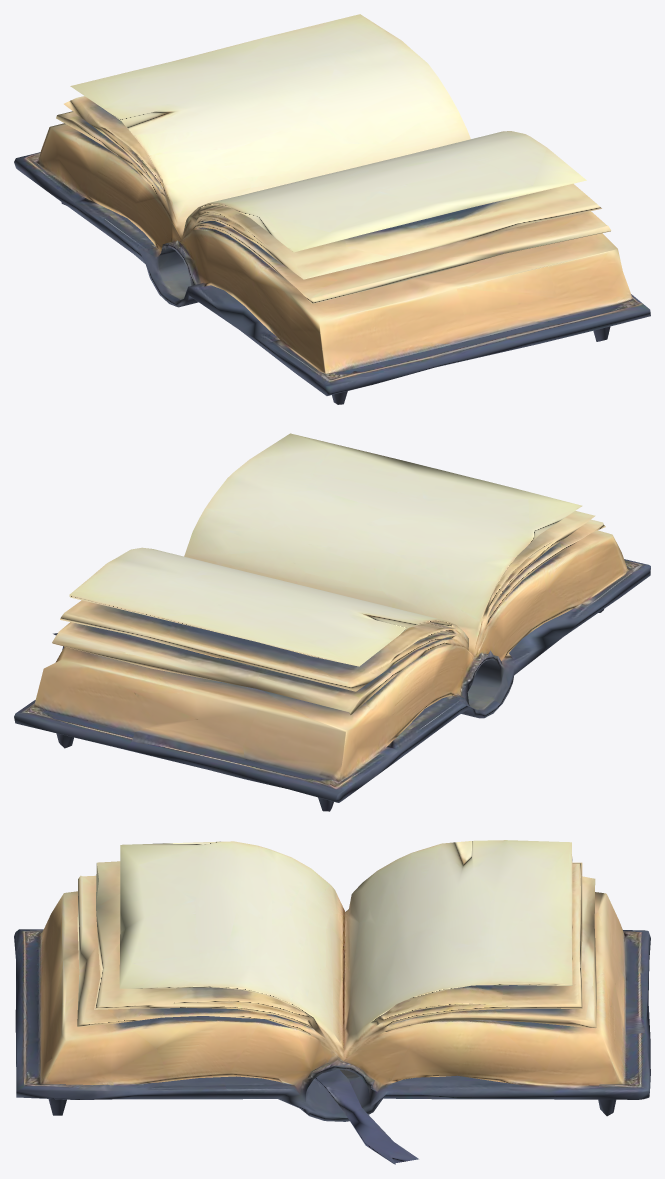
File: book.glb
3 renders of one model, top to bottom at view 1: azimuth 30°, elevation 25°; view 2: azimuth 150°, elevation 25°; view 3: azimuth 270°, elevation 25°, orthographic.
Parts seen in each view (by area): view 1: tripo_node_33892557-40e1-41a1-b143-933c89eb107d; view 2: tripo_node_33892557-40e1-41a1-b143-933c89eb107d; view 3: tripo_node_33892557-40e1-41a1-b143-933c89eb107d.
Boxes of the visible parts, left/top/right/bottom form: tripo_node_33892557-40e1-41a1-b143-933c89eb107d: left=14, top=14, right=650, bottom=404; tripo_node_33892557-40e1-41a1-b143-933c89eb107d: left=14, top=433, right=650, bottom=811; tripo_node_33892557-40e1-41a1-b143-933c89eb107d: left=14, top=840, right=650, bottom=1164.
Size of the model in its own units: 0.7559 by 0.2426 by 1.
1 material, 1 textured.
